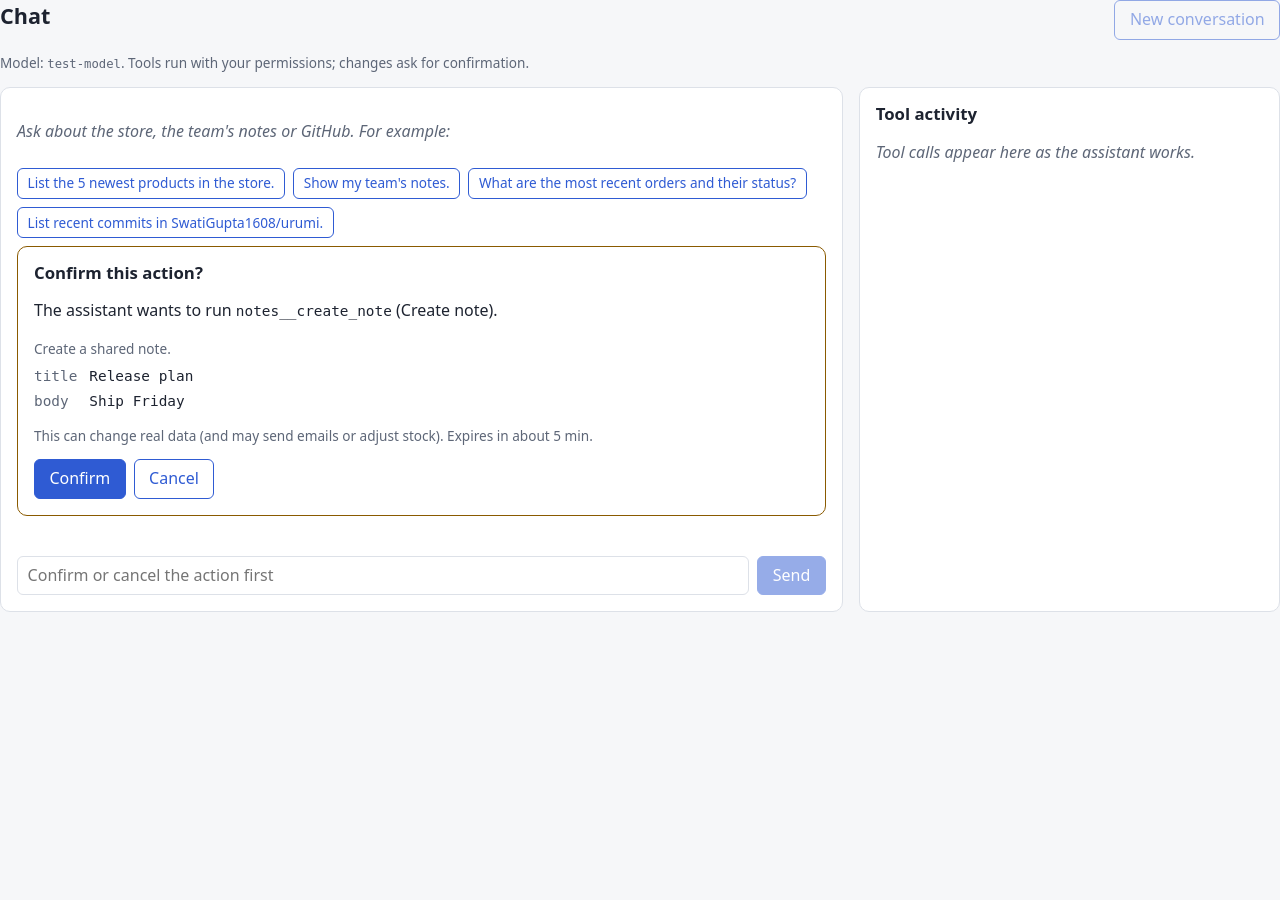
Scenario: chat page › an expired confirmation shows the error and re-syncs state
Click the button "Confirm".
click(80, 479)  # box [34,459,126,499]
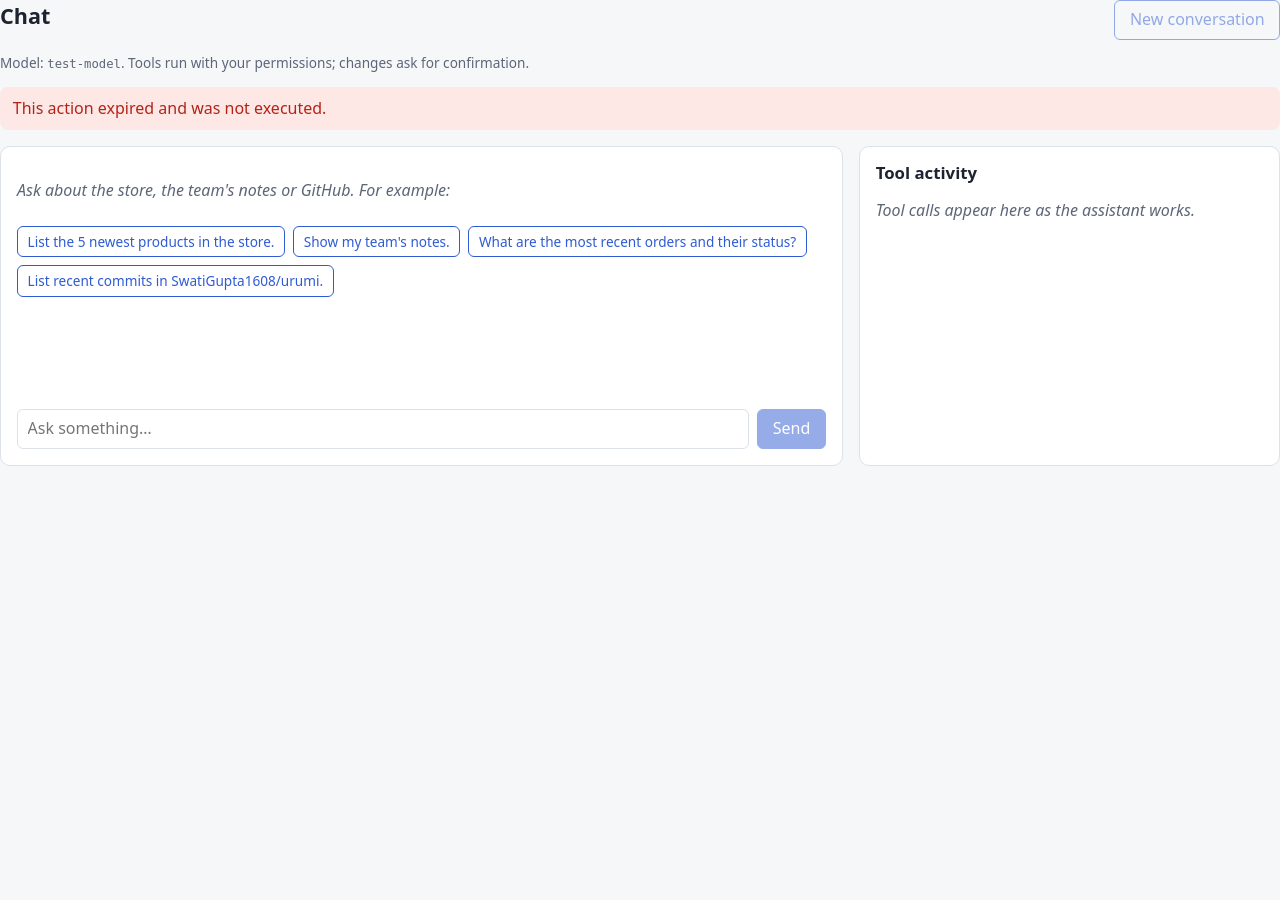
Now the message shows "expired and was not executed", box [13,97,326,119]
Now the dialog is gone
